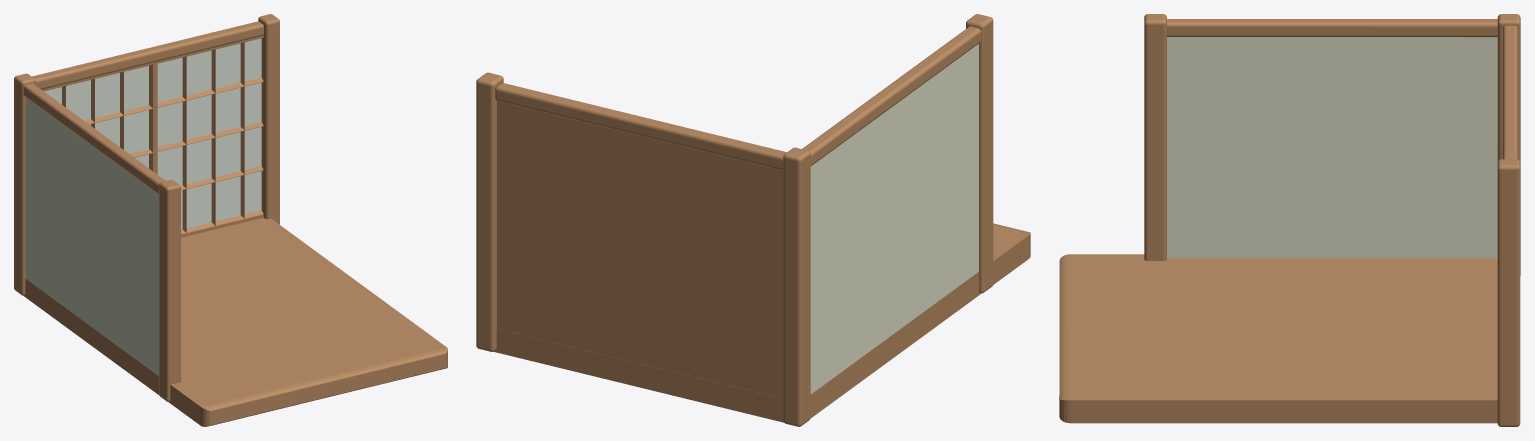
The model's file is tatami-map.glb.
3 renders of one model, left to right at view 1: azimuth 30°, elevation 25°; view 2: azimuth 150°, elevation 25°; view 3: azimuth 270°, elevation 25°, orthographic. The views are drawn at different scales.
Parts seen in each view (by area): view 1: BAse, Wall, Shoji, Shoji.001, Column, Column.003, Column.004, Column.002, Column.005; view 2: Wall, Shoji.001, Shoji, BAse, Column.002, Column.003, Column.004, Column, Column.005; view 3: Wall, BAse, Column.003, Column.005, Column, Column.004, Column.002.
Boxes of the visible parts, left/top/right/bottom form: BAse: left=23, top=217, right=447, bottom=426; Wall: left=25, top=97, right=158, bottom=375; Shoji: left=155, top=35, right=263, bottom=237; Shoji.001: left=42, top=62, right=155, bottom=172; Column: left=159, top=179, right=180, bottom=401; Column.003: left=258, top=14, right=279, bottom=224; Column.004: left=32, top=21, right=263, bottom=89; Column.002: left=14, top=73, right=35, bottom=295; Column.005: left=23, top=83, right=165, bottom=194; Wall: left=810, top=44, right=978, bottom=394; Shoji.001: left=632, top=134, right=783, bottom=398; Shoji: left=497, top=101, right=633, bottom=361; BAse: left=494, top=223, right=1030, bottom=422; Column.002: left=783, top=147, right=810, bottom=426; Column.003: left=476, top=72, right=503, bottom=351; Column.004: left=495, top=83, right=786, bottom=170; Column: left=966, top=14, right=993, bottom=293; Column.005: left=802, top=26, right=981, bottom=165; Wall: left=1167, top=37, right=1497, bottom=258; BAse: left=1059, top=254, right=1497, bottom=423; Column.003: left=1497, top=159, right=1520, bottom=426; Column.005: left=1167, top=19, right=1497, bottom=37; Column: left=1144, top=14, right=1166, bottom=260; Column.004: left=1502, top=25, right=1517, bottom=159; Column.002: left=1497, top=14, right=1520, bottom=275.
Size of the model in its own units: 3.65 by 2.9 by 4.61.
